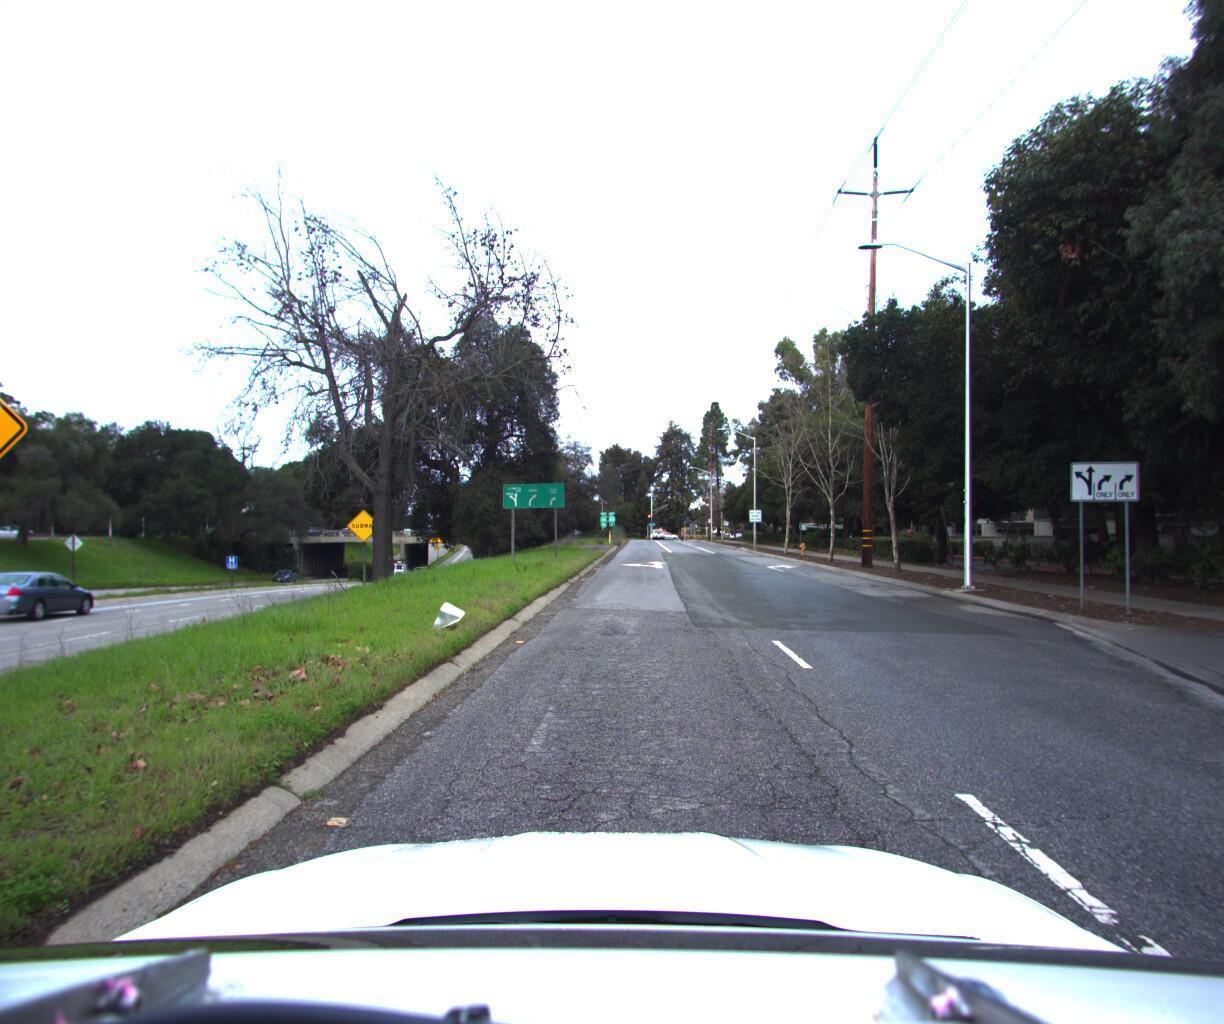car: (0, 563, 106, 625), (0, 553, 2, 609)
